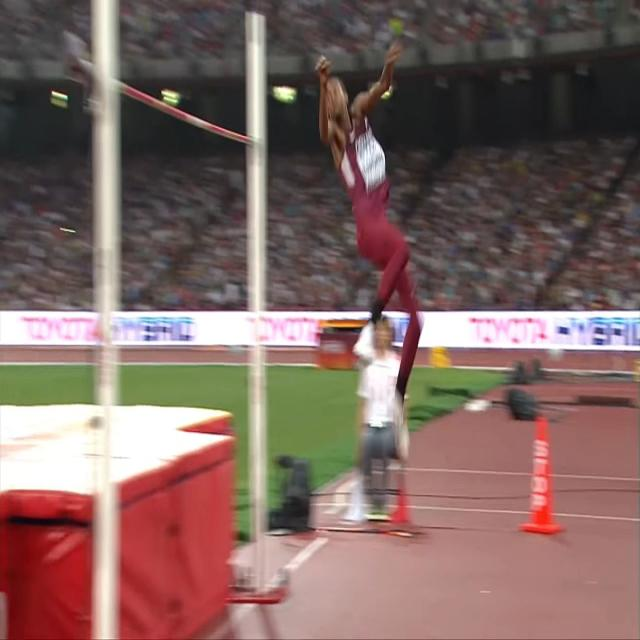jump: (316, 52, 422, 456)
